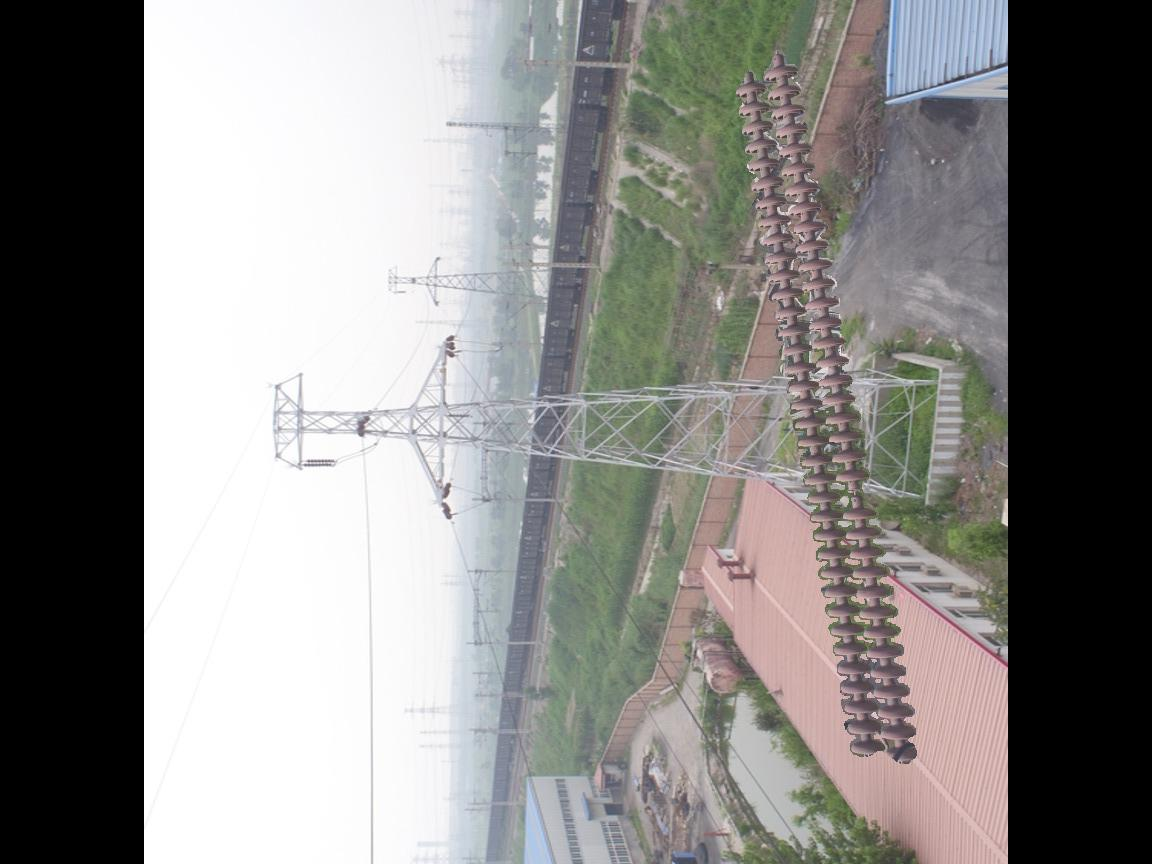insulator: (733, 58, 923, 771)
insulator_stringdrop: (833, 468, 880, 524)
